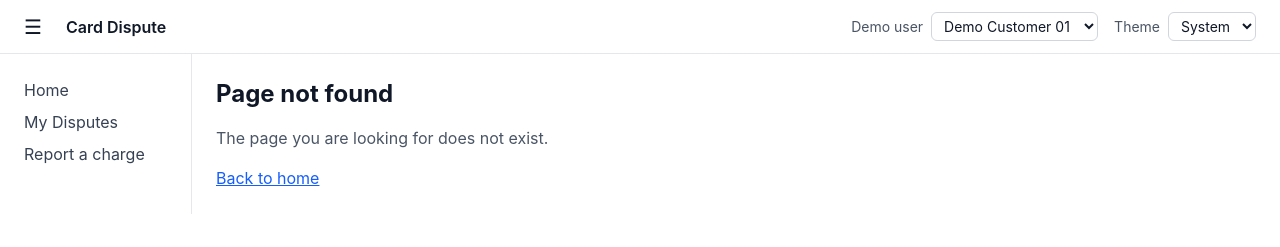
Test: routes › navigates home from the 404 page
Click the link "Back to home" at (268, 178), box [216,168,320,188]
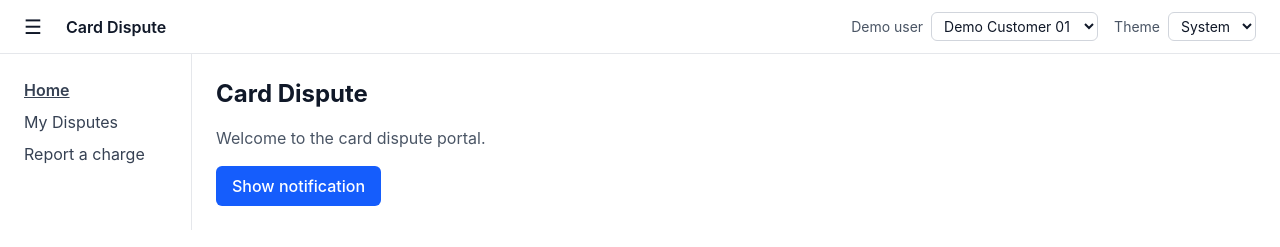
Now the heading "Card Dispute" is shown, box [216,79,368,108]
